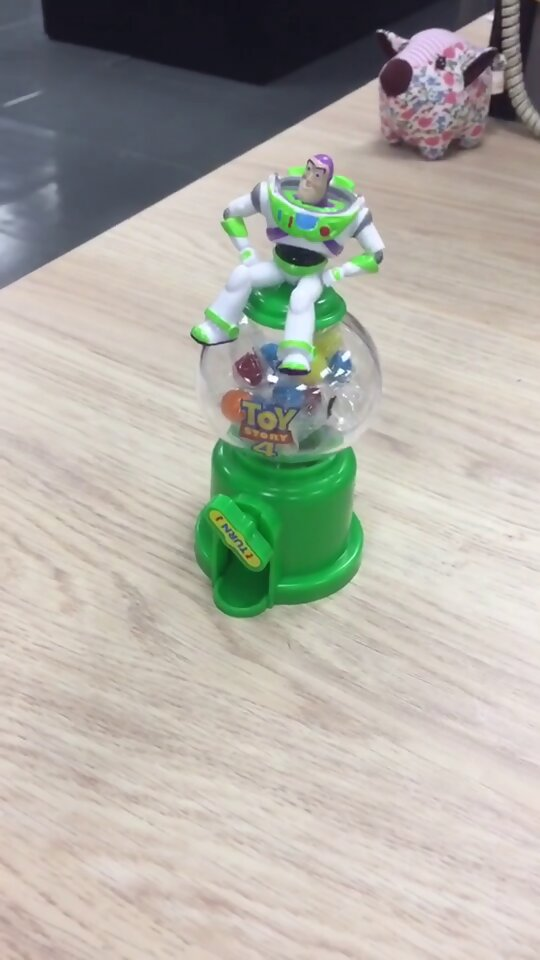buzz: (182, 143, 391, 623)
